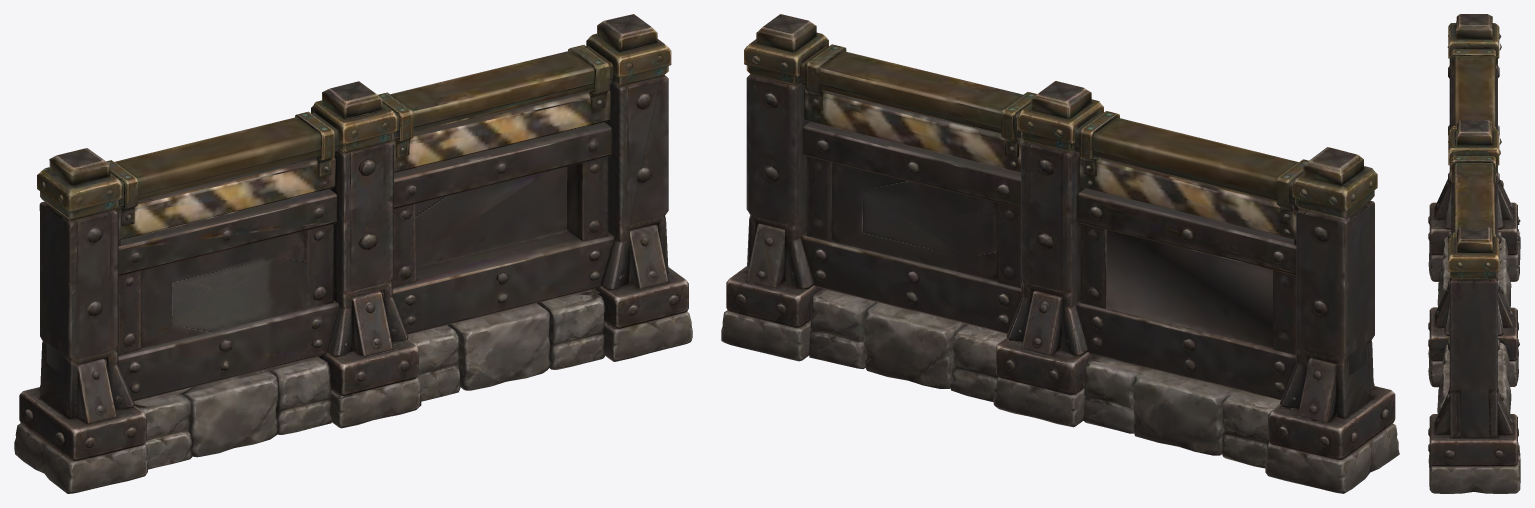
File: shelter_t3_wall.glb
The picture shows the model from 3 angles, left to right: view 1: azimuth 30°, elevation 25°; view 2: azimuth 150°, elevation 25°; view 3: azimuth 270°, elevation 25°; orthographic projection. The views are drawn at different scales.
Bounding box in the file's own units: 0.957 × 0.4497 × 0.1523.
Materials: 1 (1 with a texture image).
